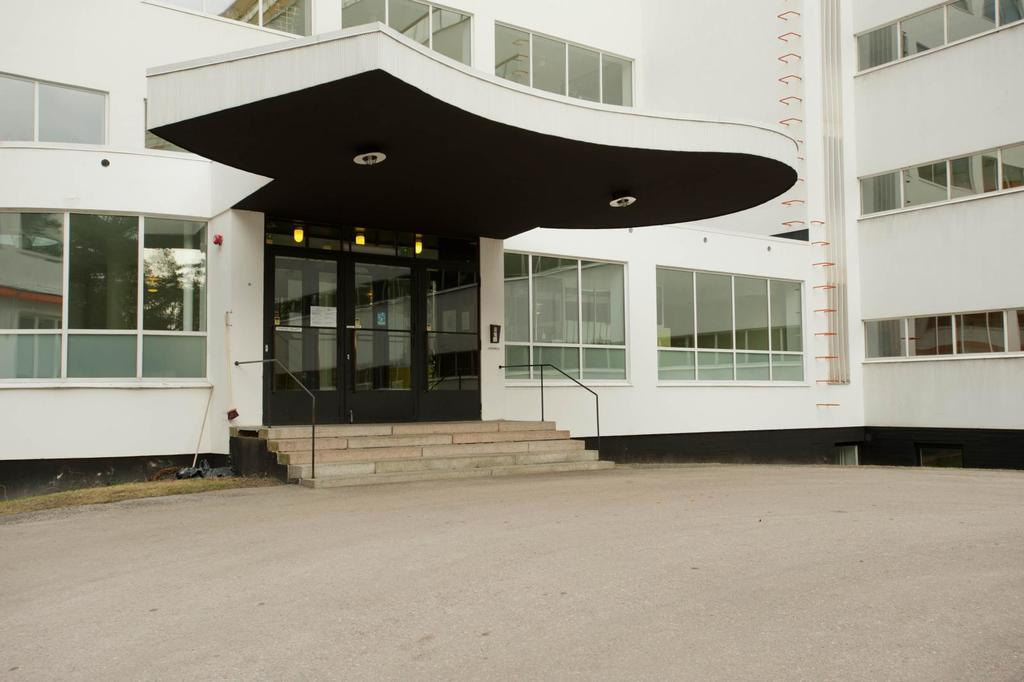door: (350, 253, 418, 414), (279, 254, 343, 412)
handle: (348, 320, 413, 340), (279, 317, 342, 336)
